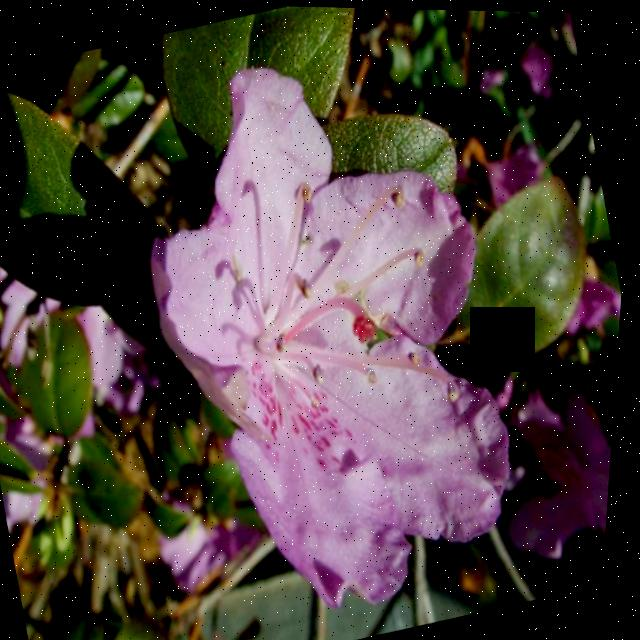azalea: (73, 21, 572, 618)
